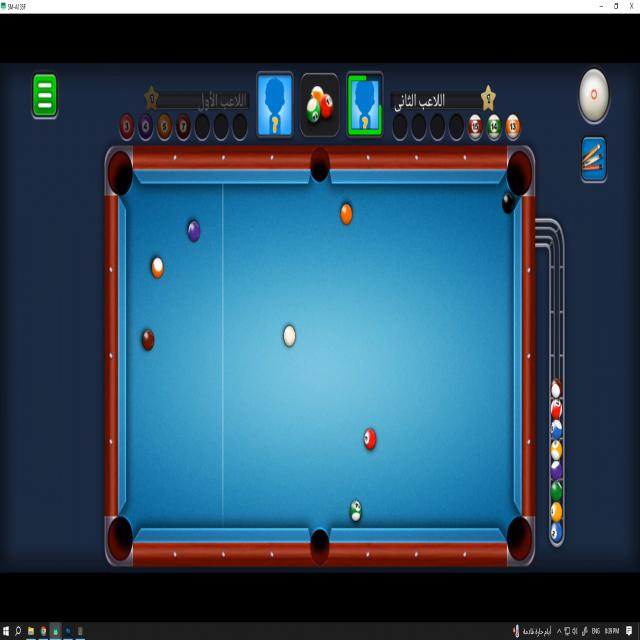object_ball: (188, 221, 200, 242), (502, 192, 514, 213), (364, 429, 376, 449), (341, 204, 352, 225), (350, 501, 361, 522), (143, 330, 154, 350), (152, 258, 163, 278)
white_cue_ball: (284, 326, 295, 347)
